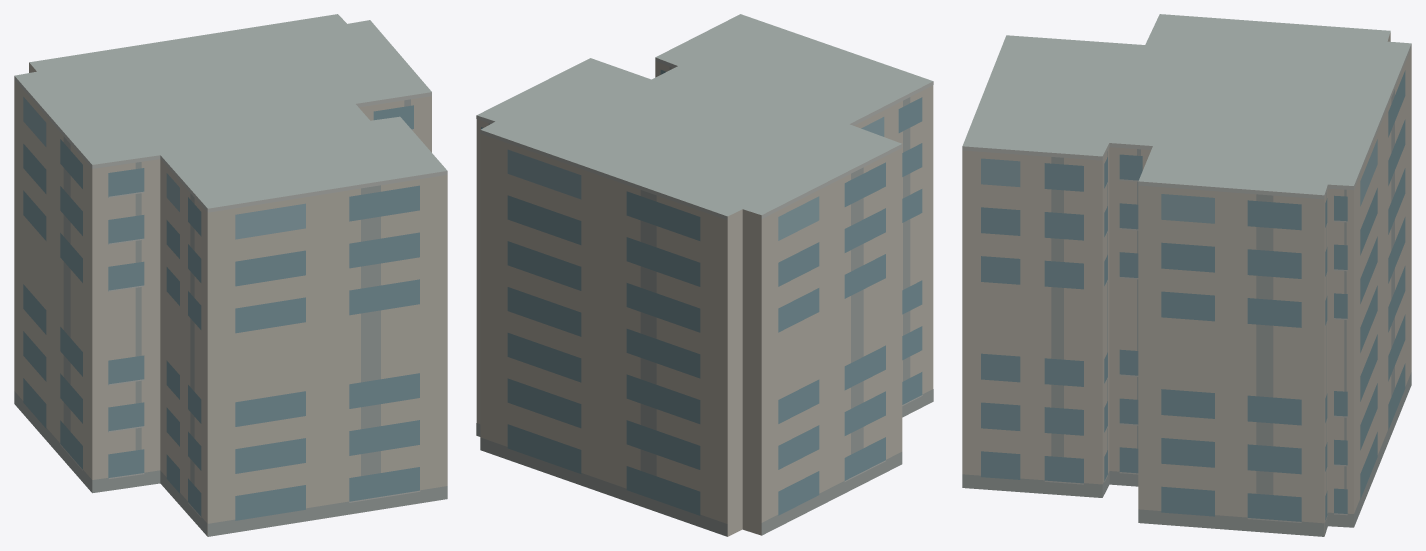
The model's file is survey-upis-32688670.glb.
3 views of the same model, side by side, from view 1: azimuth 30°, elevation 25°; view 2: azimuth 150°, elevation 25°; view 3: azimuth 270°, elevation 25° (orthographic). The views are drawn at different scales.
Parts seen in each view (by area): view 1: survey-upis-32688670.tmp; view 2: survey-upis-32688670.tmp; view 3: survey-upis-32688670.tmp.
Boxes of the visible parts, box(x1,y1,x2,y2) form: survey-upis-32688670.tmp: box(14, 14, 447, 536); survey-upis-32688670.tmp: box(476, 14, 933, 536); survey-upis-32688670.tmp: box(962, 14, 1411, 536).
Size of the model in its own units: 23.12 by 20.3 by 24.2.
